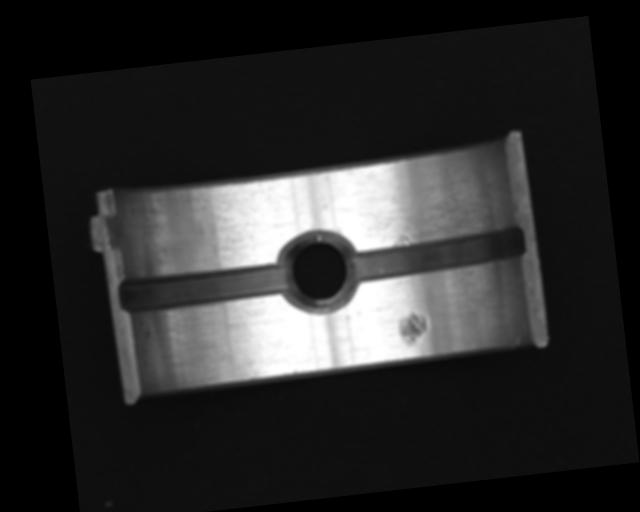bruise: (397, 310, 430, 349)
gap: (345, 223, 527, 285), (116, 261, 290, 314)
hole: (276, 226, 358, 318)
scratch: (341, 154, 503, 253)
